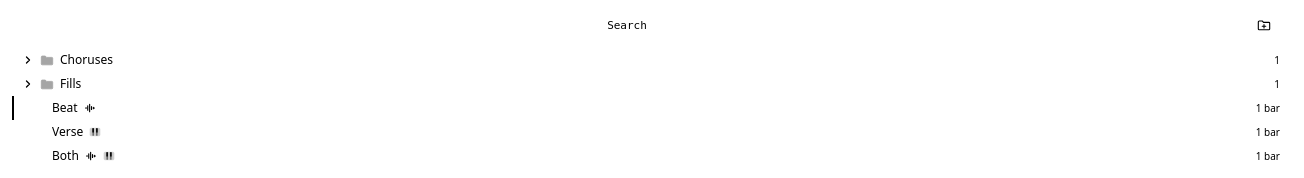
Test: the pattern browser › searches every pattern
The width and height of the screenshot is (1304, 178).
Step 1. Type "e" into the search field → (633, 26), box x1=24 y1=16 x2=1242 y2=36
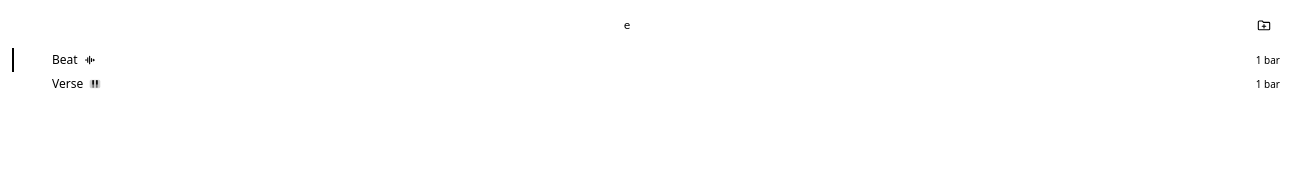
Check: the text "Verse" is shown, box x1=52 y1=76 x2=83 y2=92
Check: the list item "Fill" is gone
